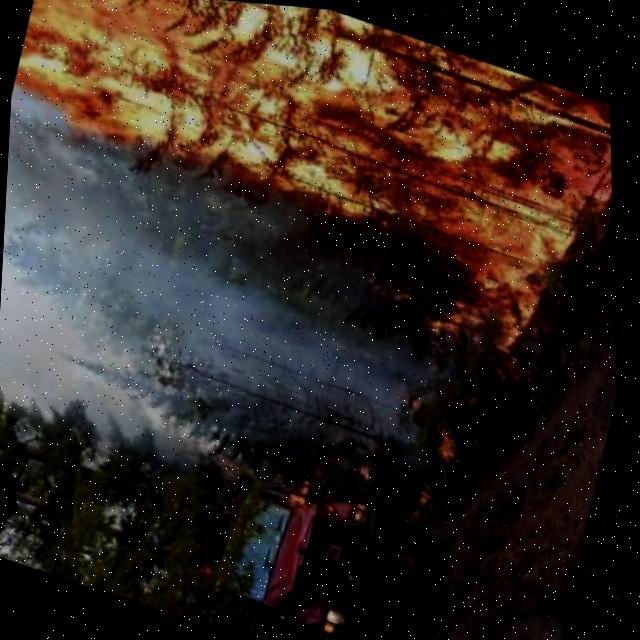fire: (3, 93, 625, 279), (11, 0, 612, 131), (426, 260, 554, 368), (423, 401, 484, 472), (392, 470, 448, 526)
